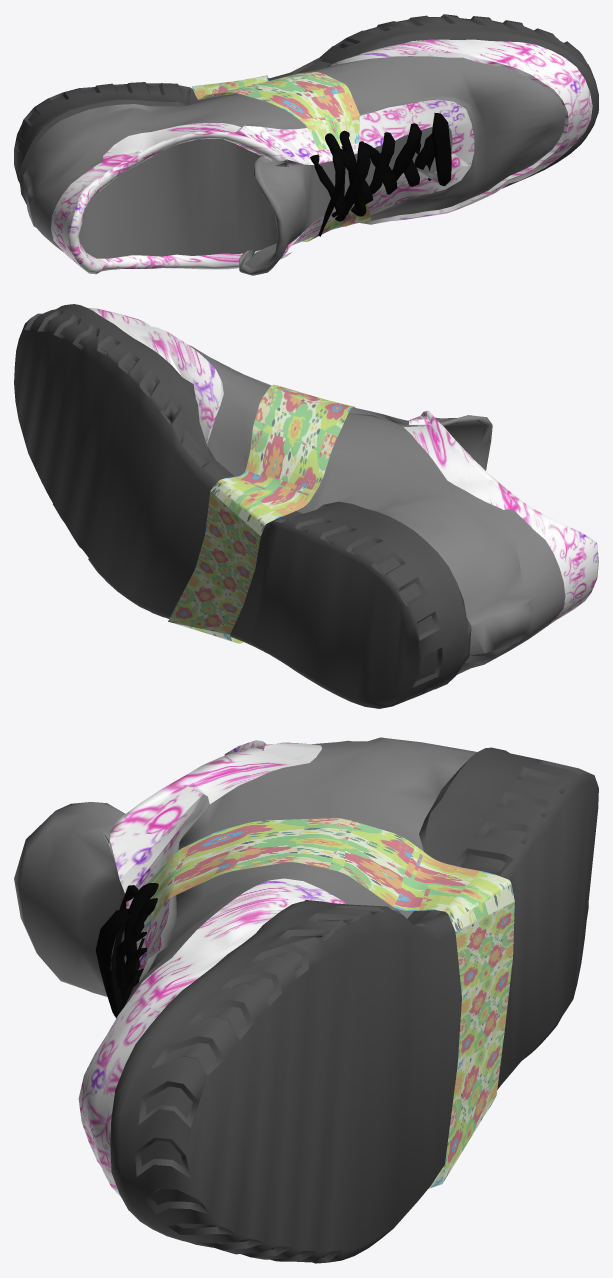
Rendered from yaya_shoe1.obj.
3 views of the same model, one above another, from view 1: azimuth 30°, elevation 25°; view 2: azimuth 150°, elevation 25°; view 3: azimuth 270°, elevation 25° (orthographic). The views are drawn at different scales.
Parts seen in each view (by area): view 1: TryOnShoes; view 2: TryOnShoes; view 3: TryOnShoes.
Boxes of the visible parts, box(x1,y1,x2,y2) form: TryOnShoes: box(14, 14, 598, 275); TryOnShoes: box(14, 304, 598, 708); TryOnShoes: box(14, 737, 598, 1263).
Bounding box in the file's own units: 314 × 115 × 177.
